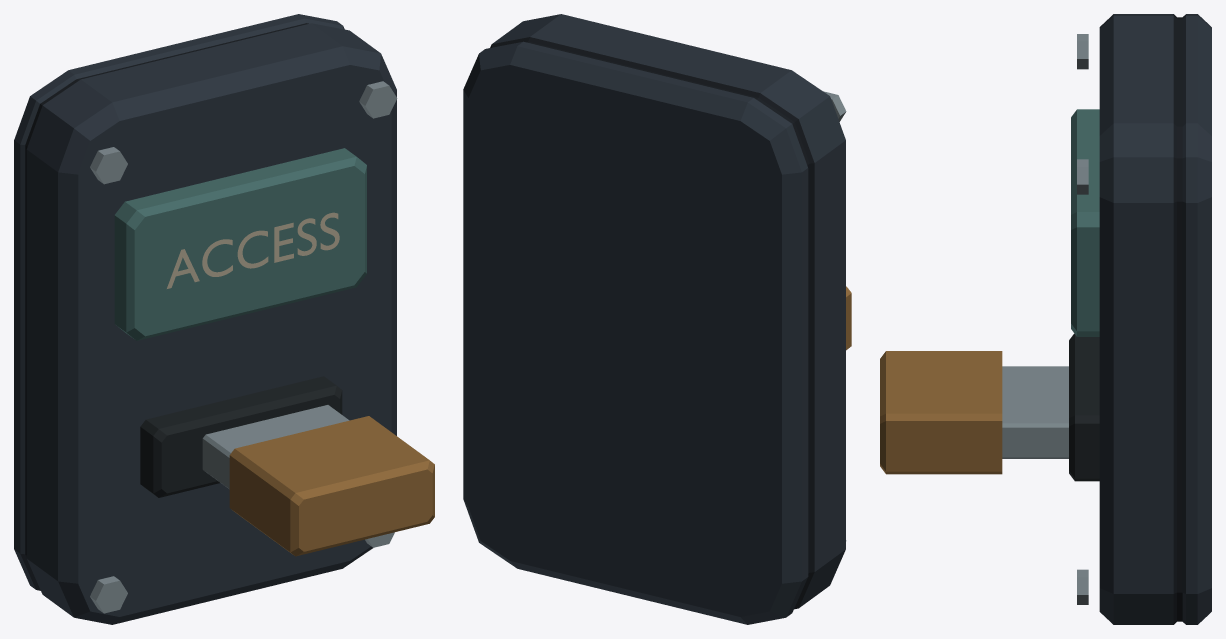
The model's file is PZ-02_key_reader.glb.
3 views of the same model, side by side, from view 1: azimuth 30°, elevation 25°; view 2: azimuth 150°, elevation 25°; view 3: azimuth 270°, elevation 25° (orthographic). The views are drawn at different scales.
Visible parts, largest first — view 1: PZ-02_key_reader; view 2: PZ-02_key_reader; view 3: PZ-02_key_reader.
Part boxes in pixels (bbox=[...]): PZ-02_key_reader: bbox=[14, 14, 434, 624]; PZ-02_key_reader: bbox=[463, 14, 851, 624]; PZ-02_key_reader: bbox=[880, 14, 1211, 624].
Size of the model in its own units: 0.19 by 0.28 by 0.1685.
